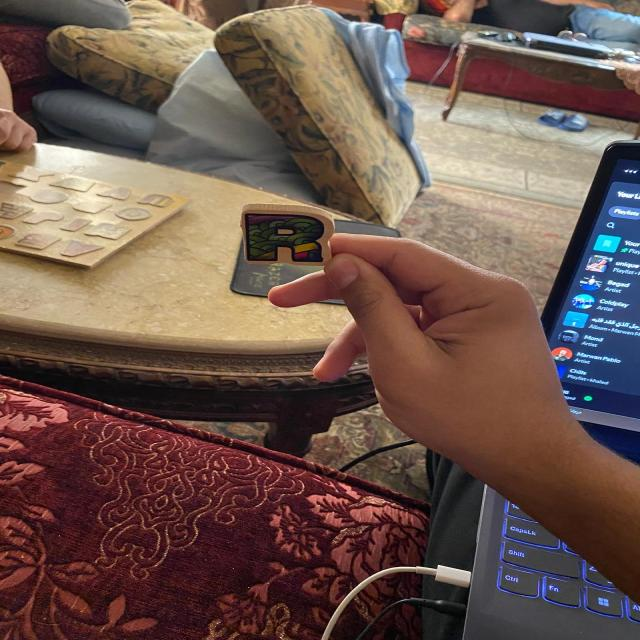R: (240, 204, 334, 266)
